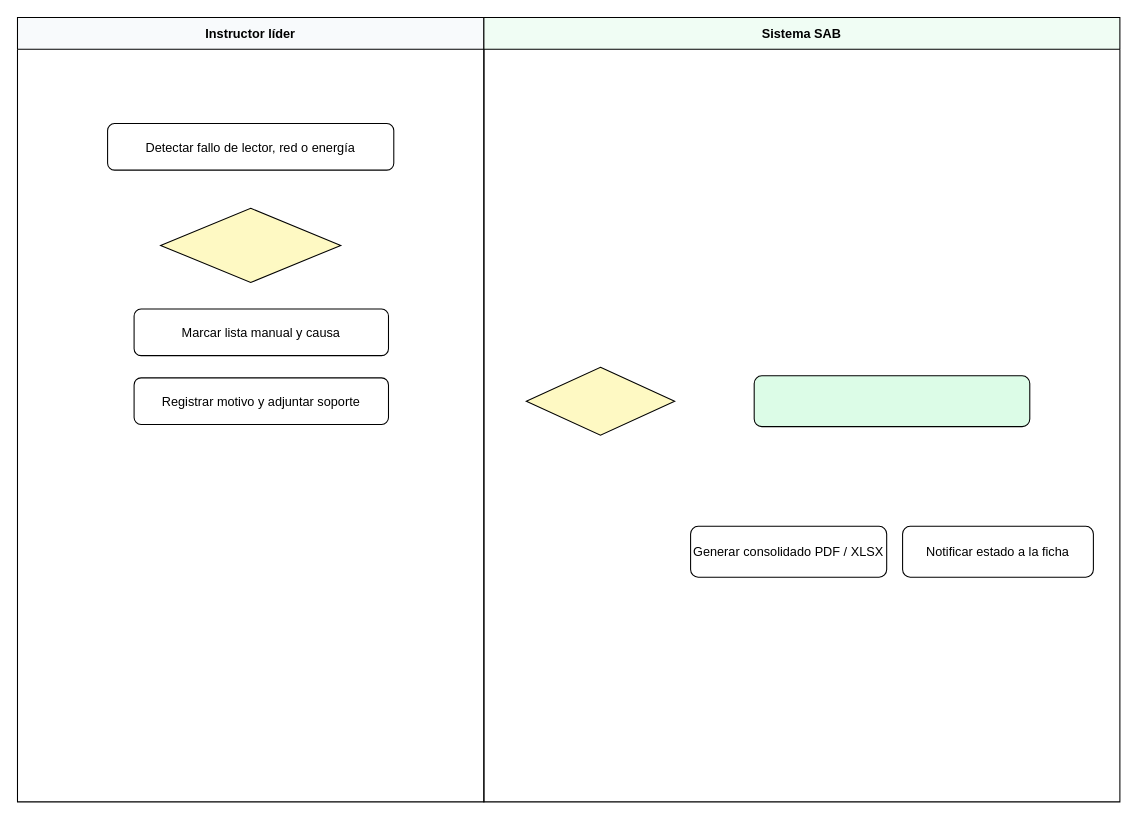
Some shapes in this 1137 by 819 pixel diagram are drawn without their labels. The centre of each missing label's shape, as x and y in pixels:
Guardar estado, origen y auditoría: pixel 891 401
¿Datos completos?: pixel 600 400
¿Viable manual?: pixel 250 244
